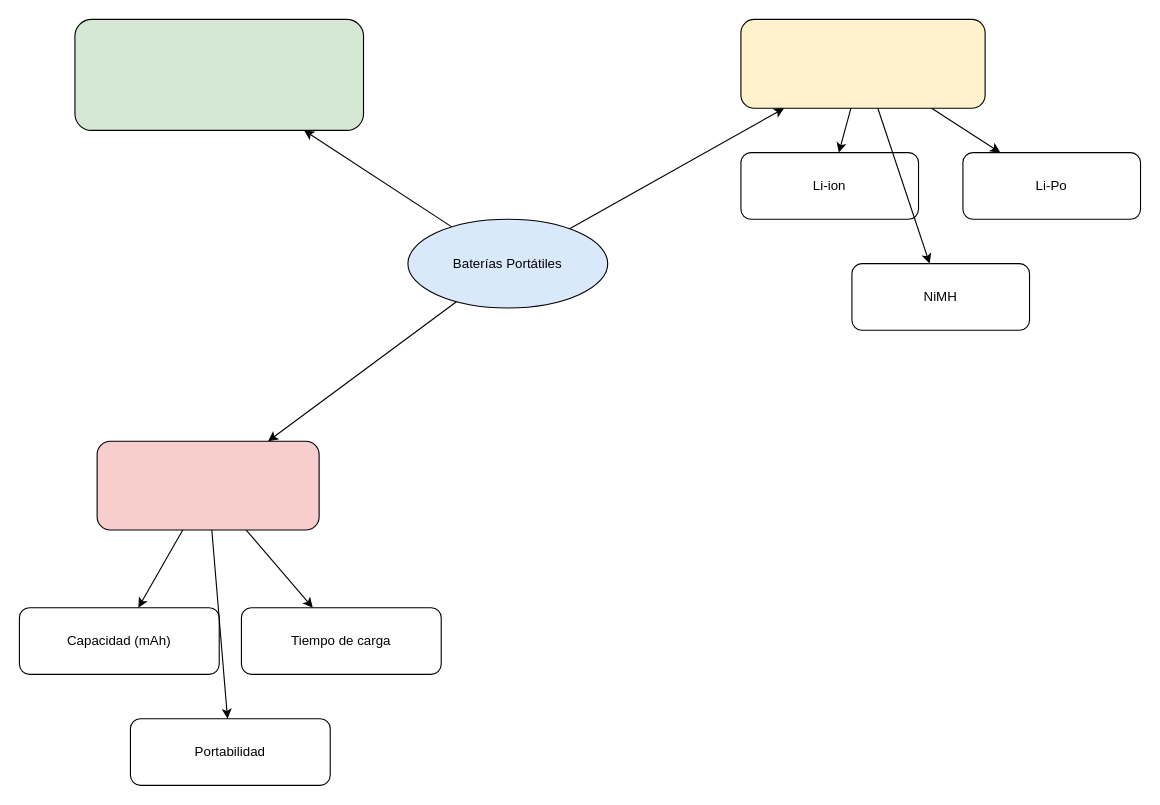
The diagram is 1160 pixels wide and 805 high, and some of its shapes have lost their labels. The shapes that lost their labels are listed below. From the top down, each one's box as (x1, y1, x2, y2) in pixels, then its label:
(74, 18, 364, 130): Definición: Almacenan energía para cargar dispositivos
(740, 18, 985, 108): Tipos de baterías
(96, 440, 319, 530): Características
